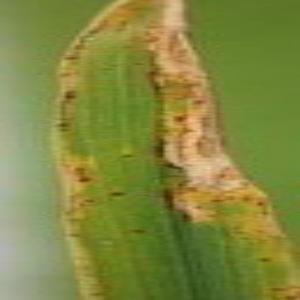Bacterial_Blight: (49, 6, 234, 299)
